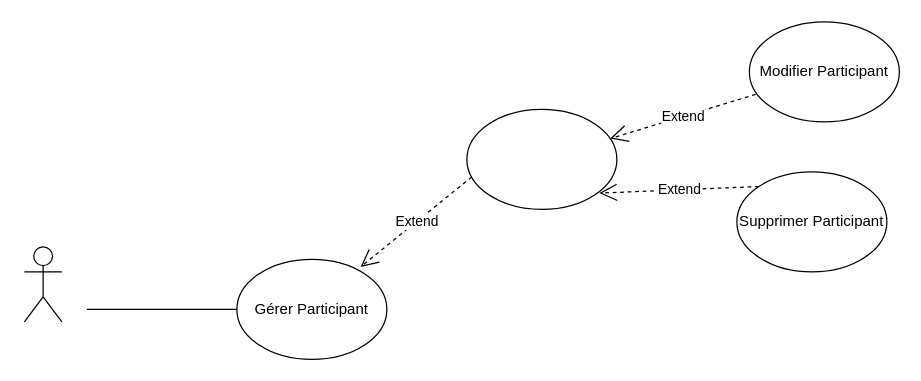
Some shapes in this 921 by 381 pixel diagram are drawn without their labels. Each missing label, with the centre of its shape:
Admin: [42,284]
Consulter Participant: [541,158]
